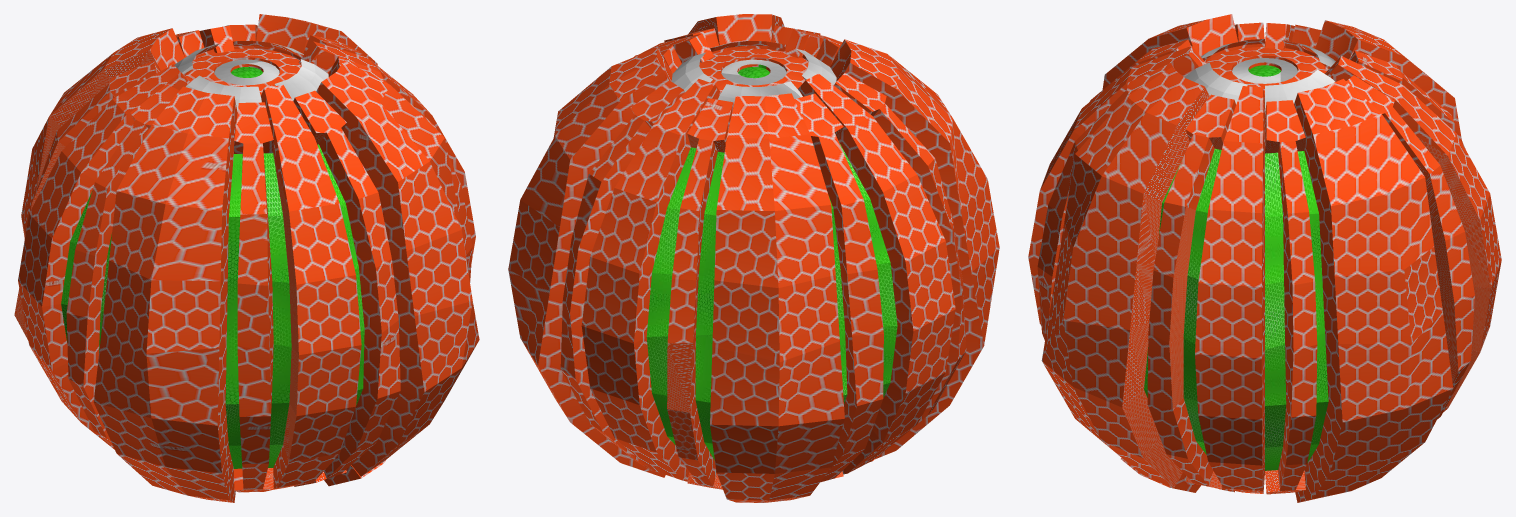
File: PumpkinBMB.fbx
3 renders of one model, left to right at view 1: azimuth 30°, elevation 25°; view 2: azimuth 150°, elevation 25°; view 3: azimuth 270°, elevation 25°, orthographic.
Visible parts, largest first — view 1: pSphere1; view 2: pSphere1; view 3: pSphere1.
Part boxes in pixels (bbox=[...]): pSphere1: bbox=[14, 14, 479, 502]; pSphere1: bbox=[508, 14, 999, 502]; pSphere1: bbox=[1028, 14, 1501, 502].
Bounding box in the file's own units: 2.19 × 2.09 × 2.19.
